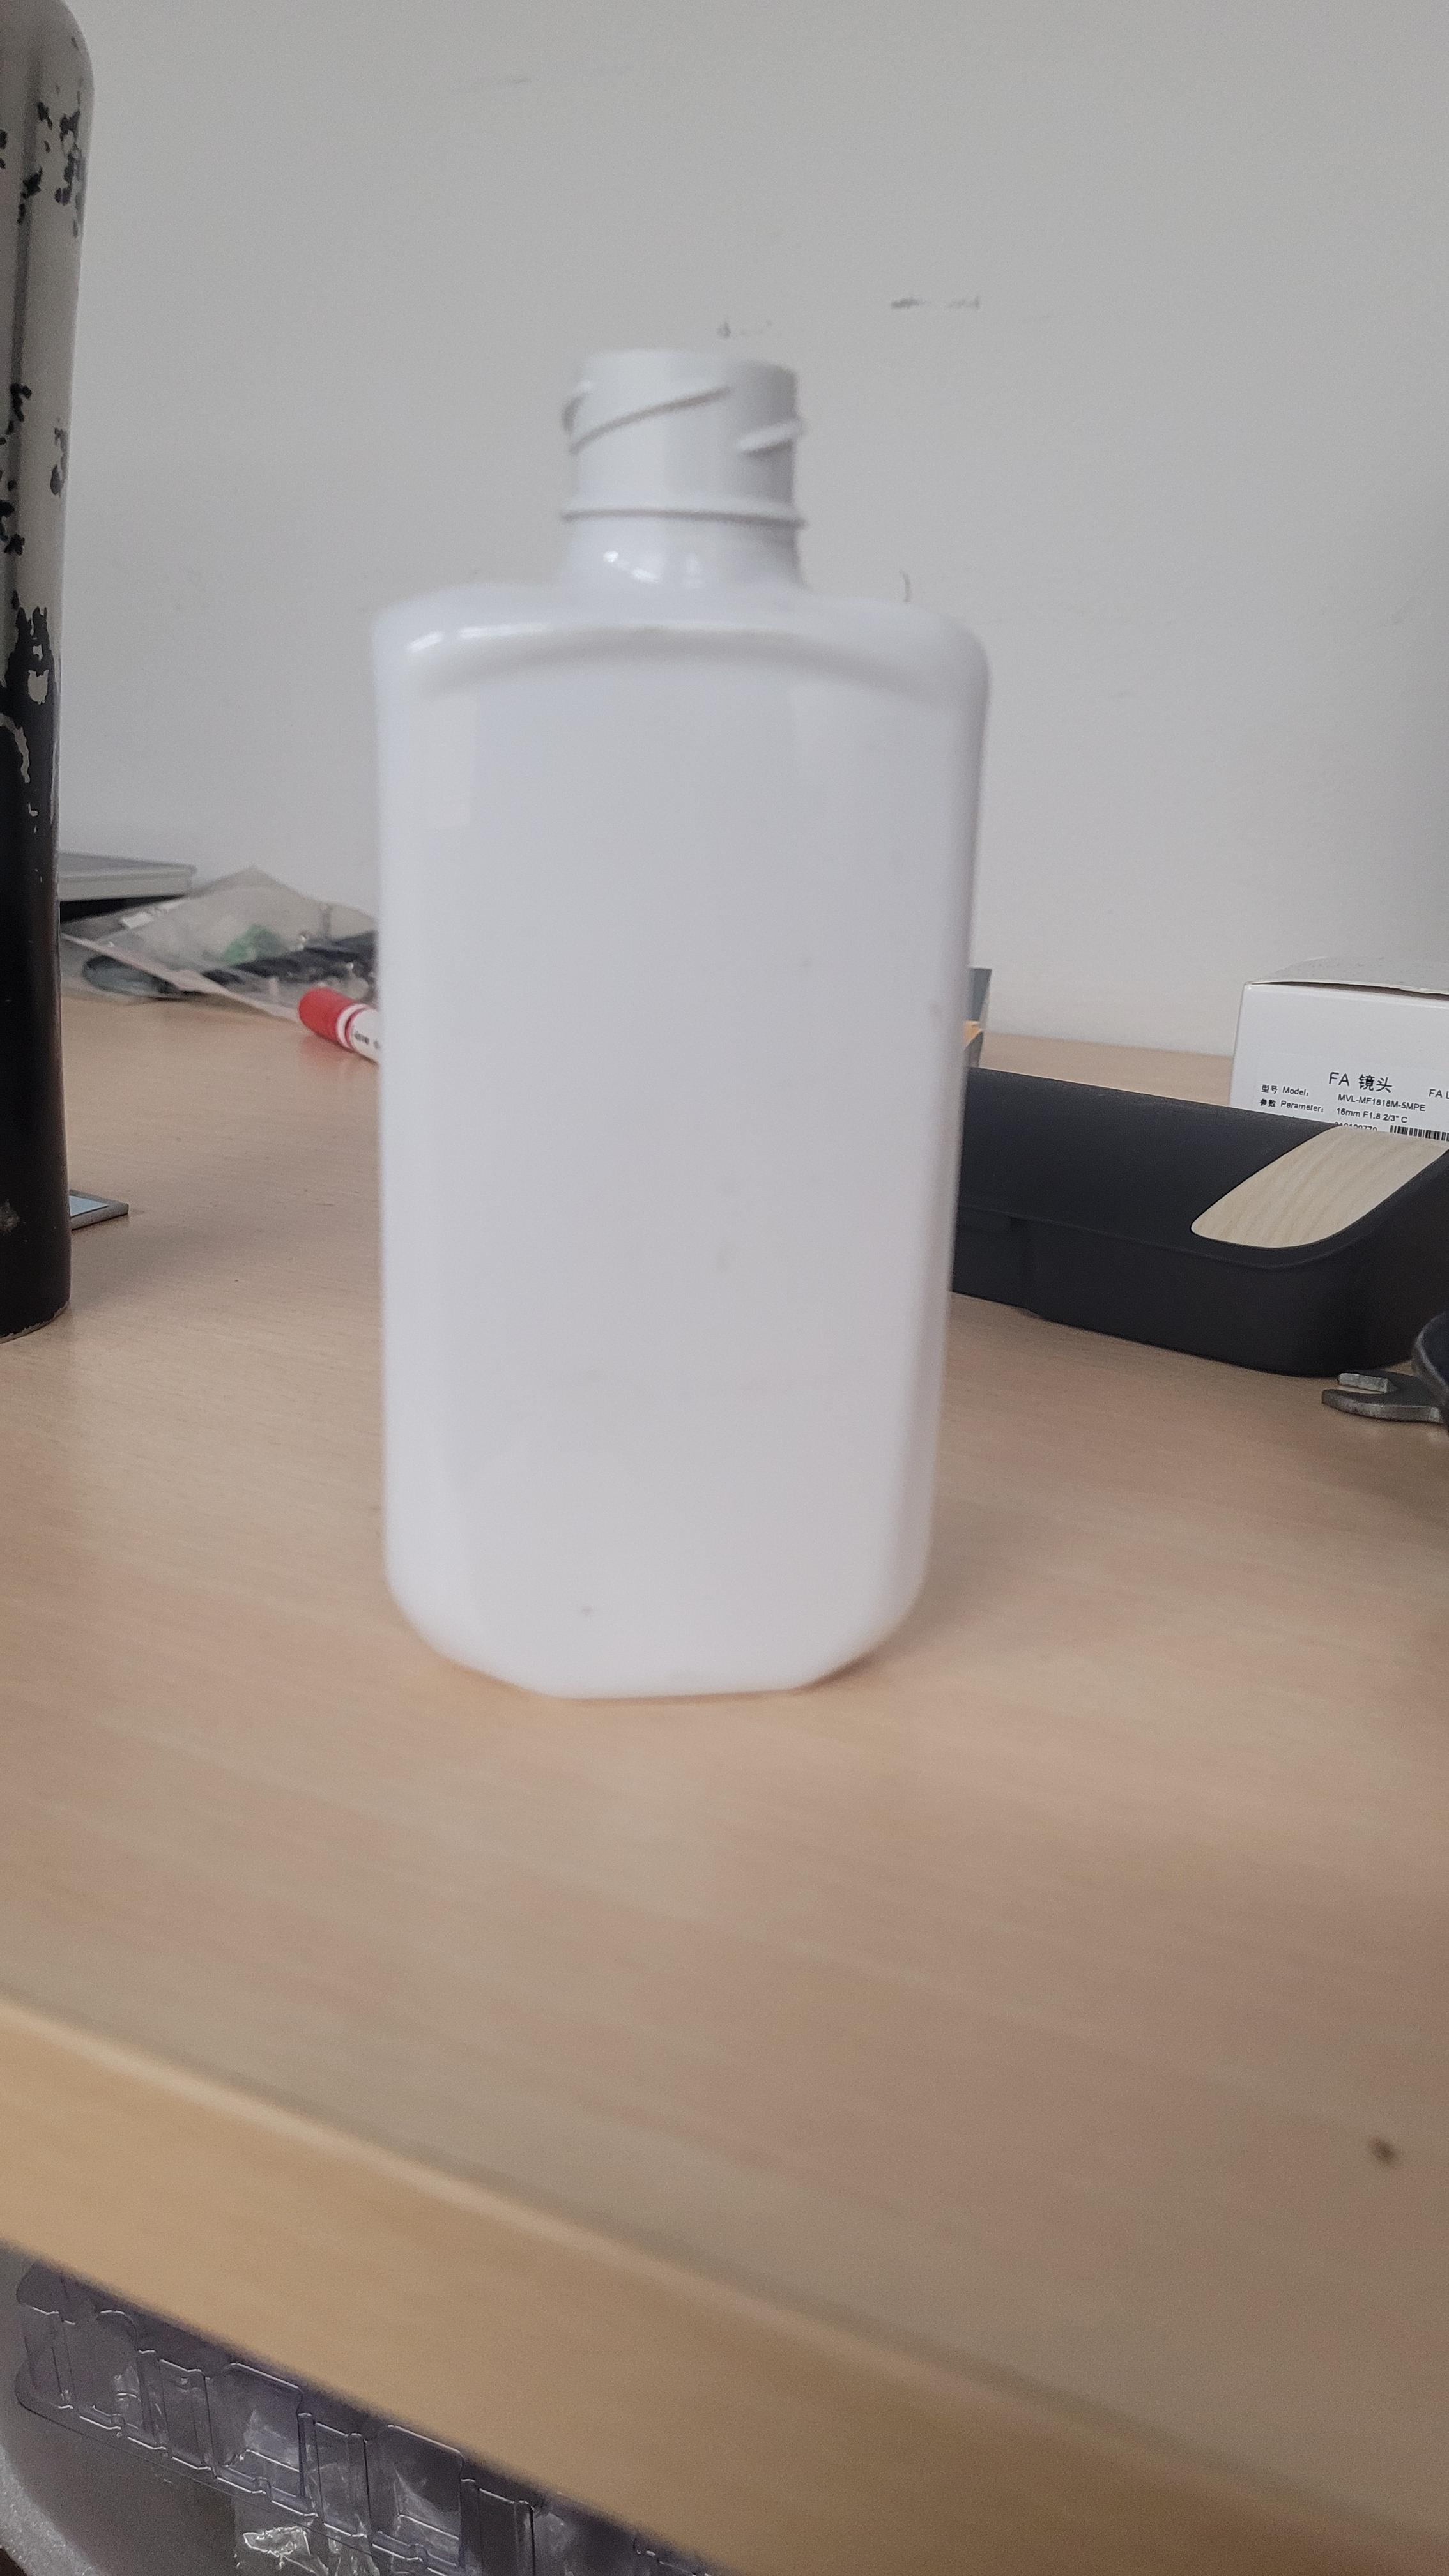Bad: (313, 295, 1054, 1743)
